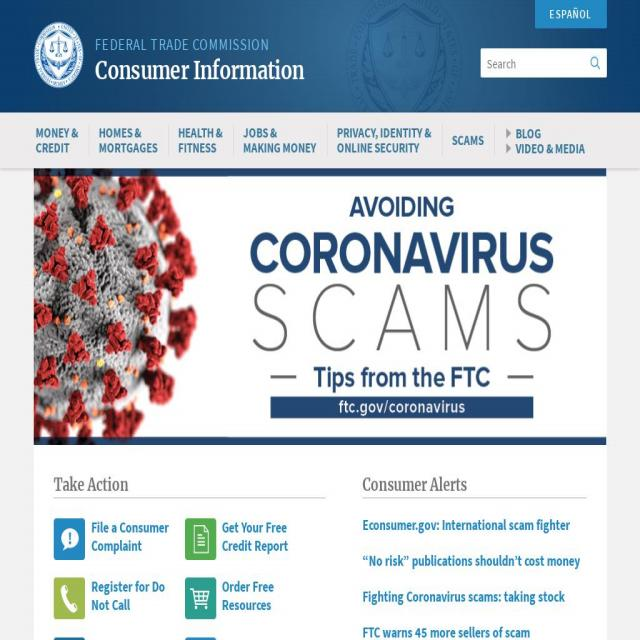language: (532, 0, 614, 32)
navigation-blocks: (44, 508, 294, 640)
navigation-links: (24, 112, 640, 170), (345, 503, 594, 640)
search: (473, 37, 608, 90)
